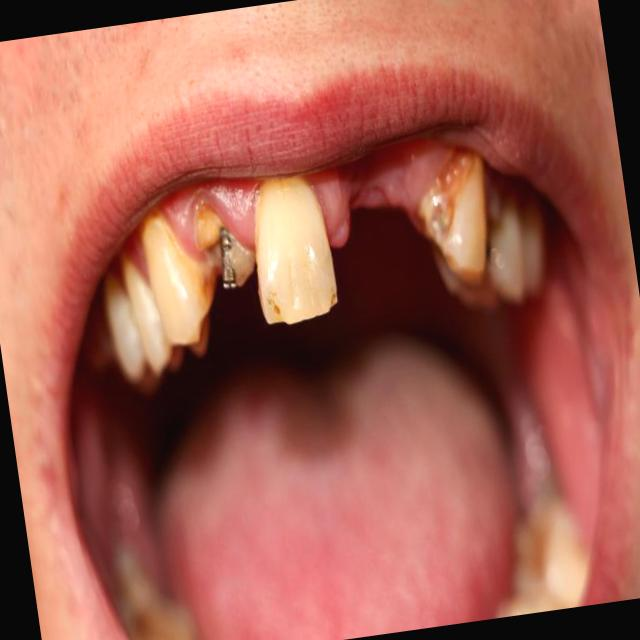caries: (409, 150, 501, 288), (192, 205, 262, 296)
